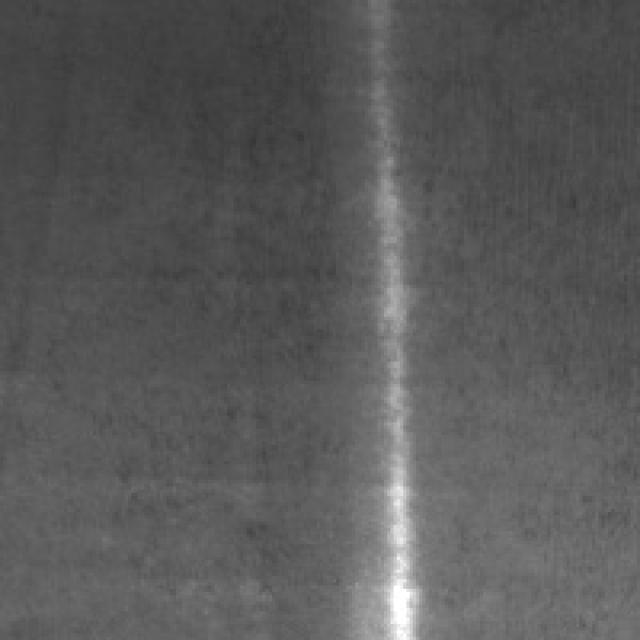scratches: (362, 3, 419, 630)
